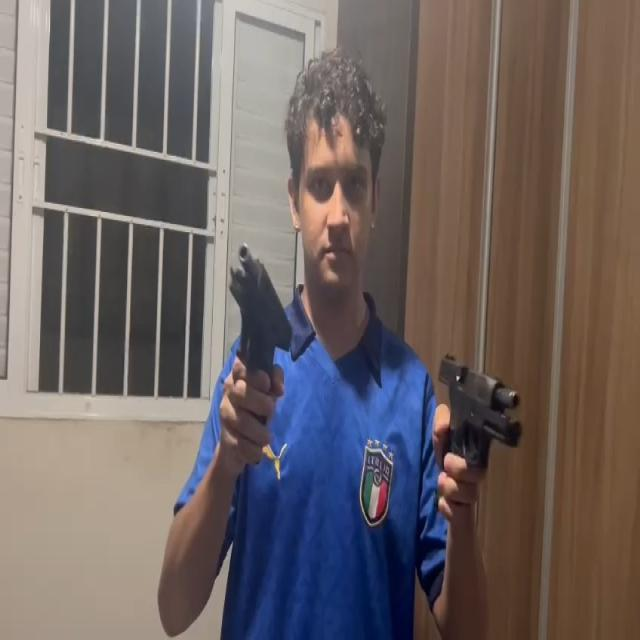guns: (437, 350, 524, 466), (230, 241, 294, 374)
